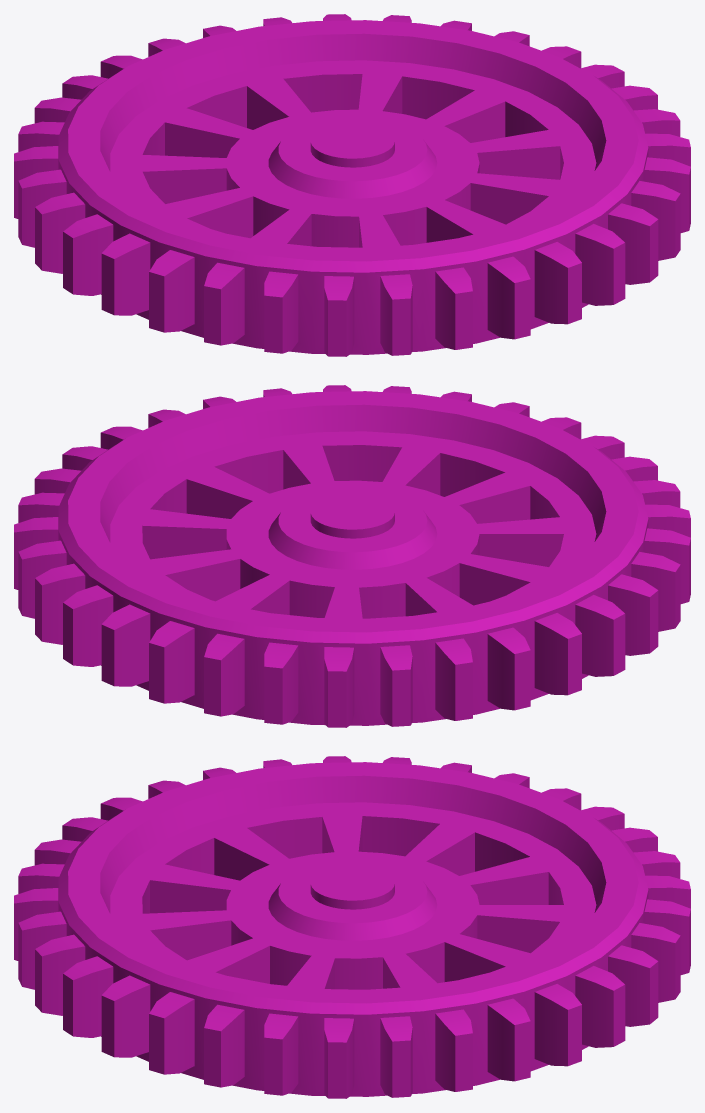
Rendered from Gear_Middle.fbx.
3 views of the same model, one above another, from view 1: azimuth 30°, elevation 25°; view 2: azimuth 150°, elevation 25°; view 3: azimuth 270°, elevation 25° (orthographic).
Parts seen in each view (by area): view 1: Gear_Midl; view 2: Gear_Midl; view 3: Gear_Midl.
Part boxes in pixels (<box>): Gear_Midl: <box>14,14,690,356</box>; Gear_Midl: <box>14,385,690,727</box>; Gear_Midl: <box>14,756,690,1098</box>.
Bounding box in the file's own units: 1.37 × 1.37 × 0.2.
